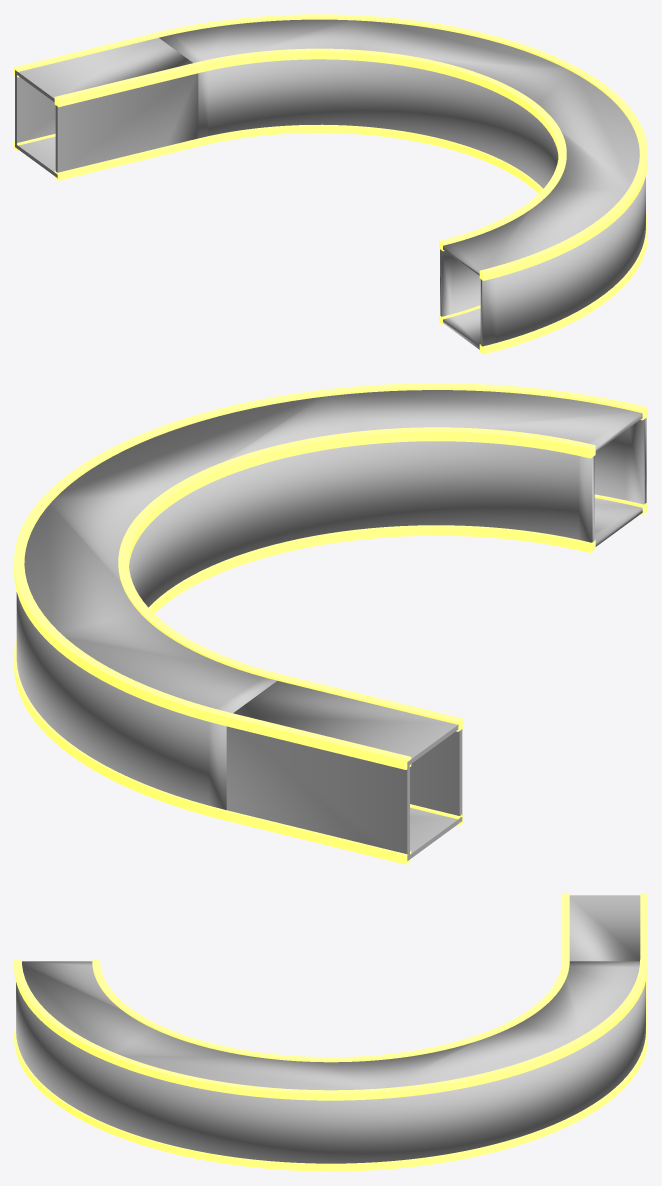
3 renders of one model, top to bottom at view 1: azimuth 30°, elevation 25°; view 2: azimuth 150°, elevation 25°; view 3: azimuth 270°, elevation 25°, orthographic. The views are drawn at different scales.
Visible parts, largest first — view 1: Box001, Box005; view 2: Box001, Box005; view 3: Box001, Box005.
Part boxes in pixels (x1,y1,x2,y2): Box001: (15,19,645,349); Box005: (14,14,647,354); Box001: (16,390,646,860); Box005: (14,383,647,864); Box001: (16,895,645,1163); Box005: (14,893,647,1171).
Bounding box in the file's own units: 121 × 22 × 162.
